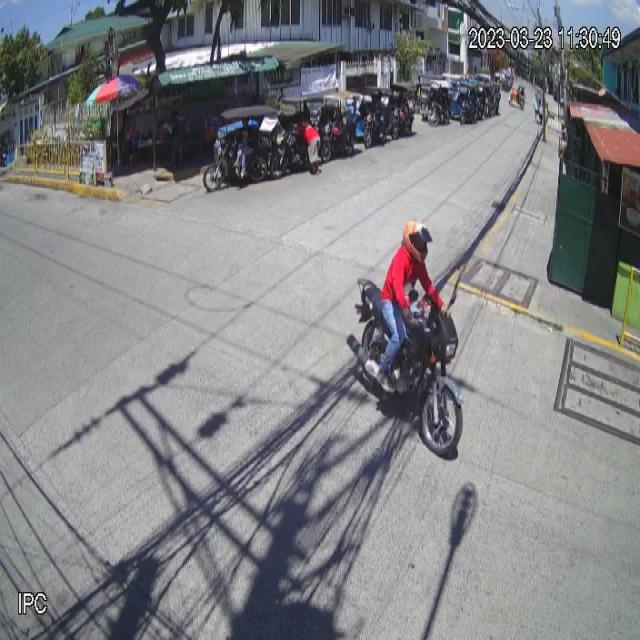Motorcycle: (346, 275, 465, 459)
